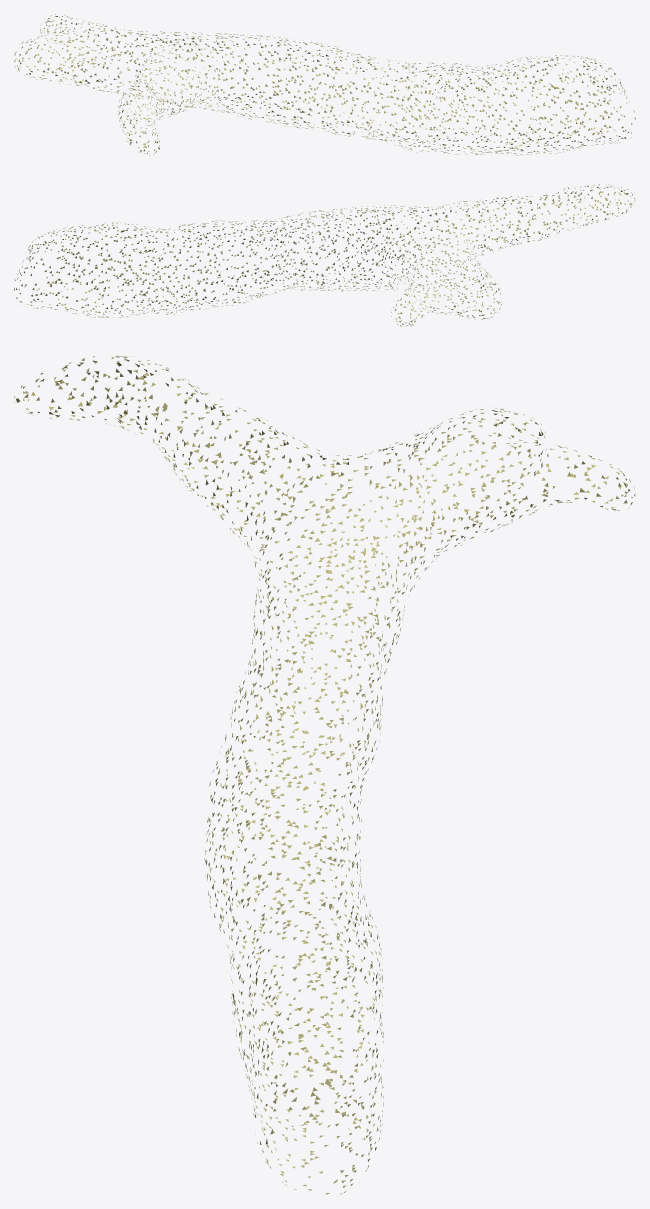
Rendered from morph_009.glb.
3 renders of one model, top to bottom at view 1: azimuth 30°, elevation 25°; view 2: azimuth 150°, elevation 25°; view 3: azimuth 270°, elevation 25°, orthographic. The views are drawn at different scales.
Size of the model in its own units: 156 by 56.5 by 84.38.
